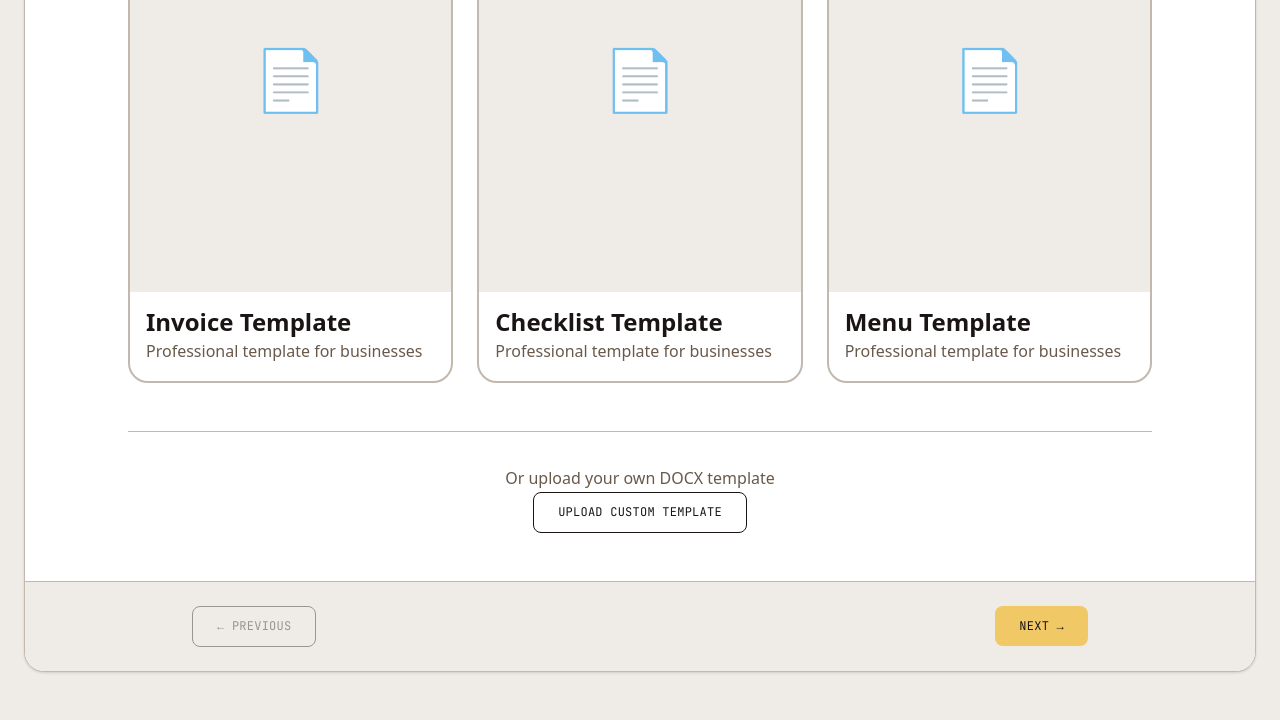
Test case: Document Generator Integration › should navigate to next step when Next button is clicked
(page scrolled)
Click the button "Next →". click: (1042, 626)
box: [995,606,1088,646]
(page scrolled)
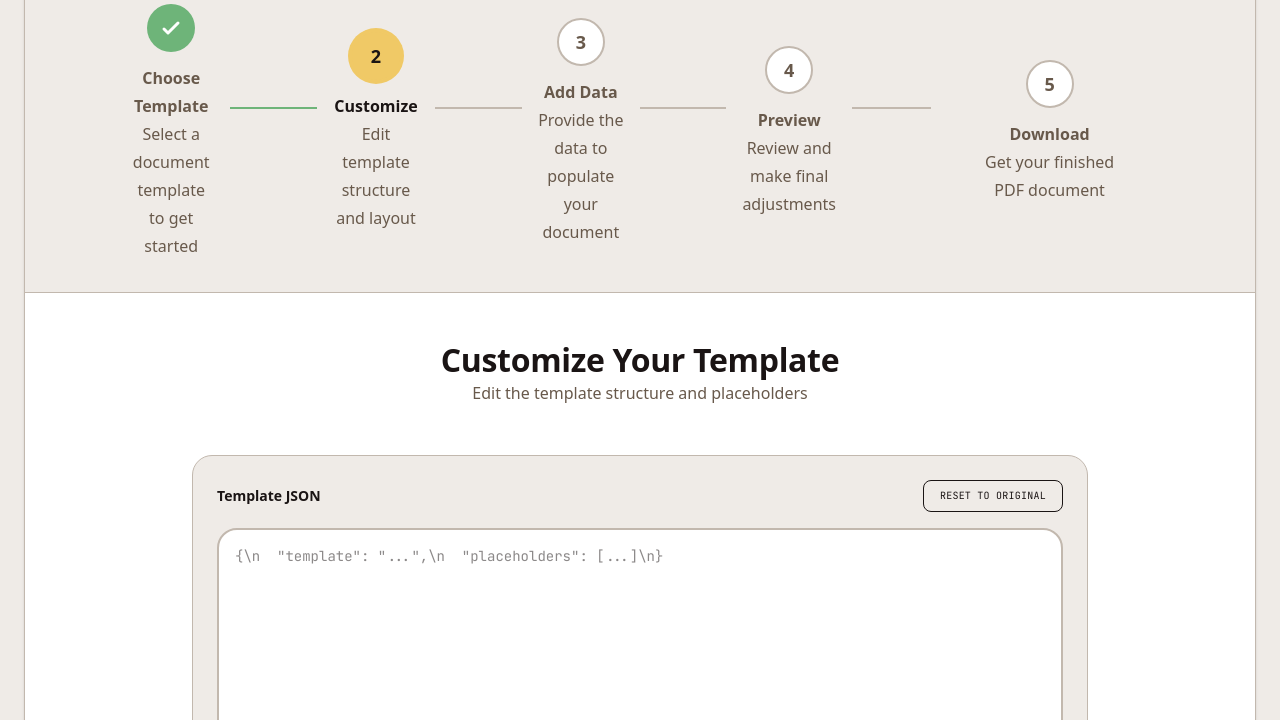
Now the heading "Customize Your Template" is shown, box [441,338,839,381]
